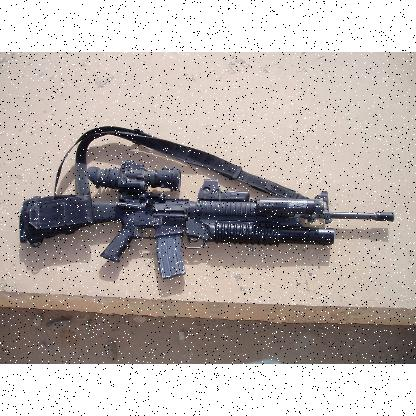gun: (19, 126, 394, 278)
